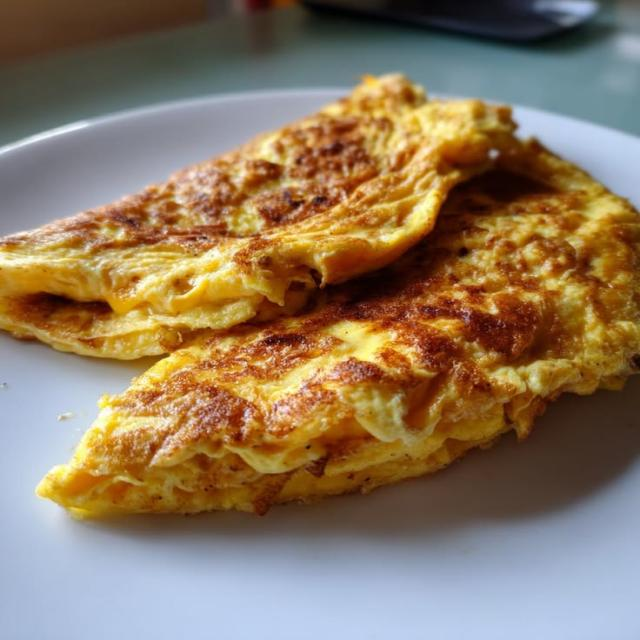omelette: (38, 142, 639, 516), (0, 76, 513, 358)
